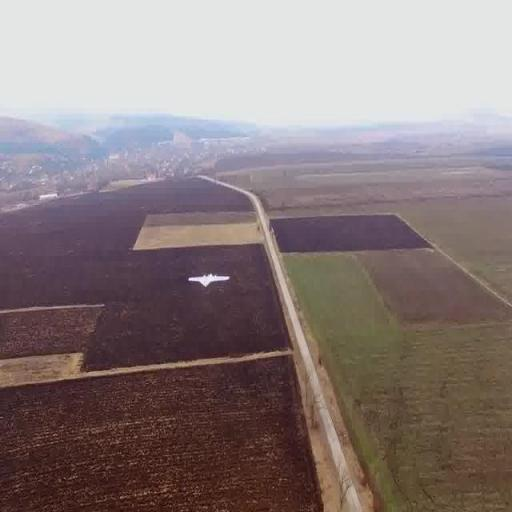uav: (182, 261, 242, 313)
